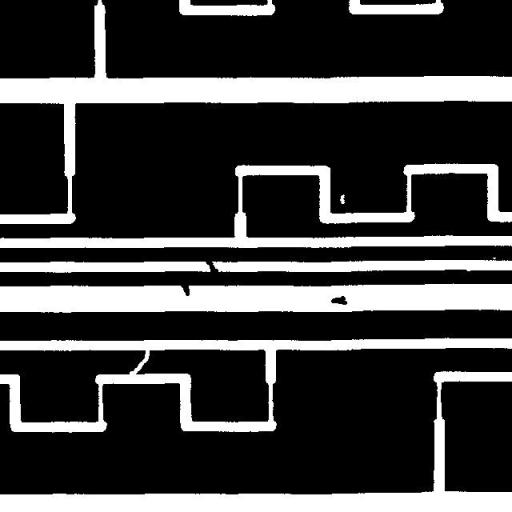copper: (324, 288, 354, 312)
open: (122, 341, 156, 382)
pin-hole: (332, 186, 352, 212)
short: (198, 250, 226, 284)
spur: (171, 274, 197, 303)
